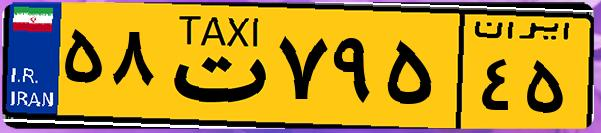4: (475, 38, 525, 113)
5: (385, 28, 445, 110), (57, 26, 110, 100), (525, 38, 570, 115)
7: (270, 28, 330, 110)
8: (110, 28, 158, 98)
9: (330, 28, 385, 110)
ت: (158, 12, 270, 120)
